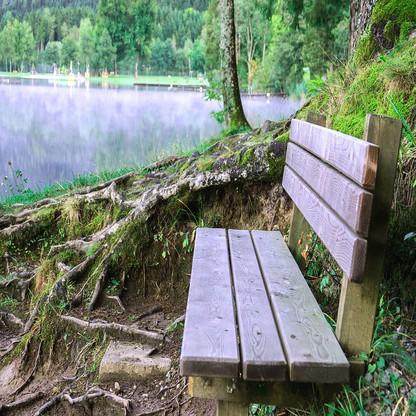obstacle: (173, 95, 405, 397)
